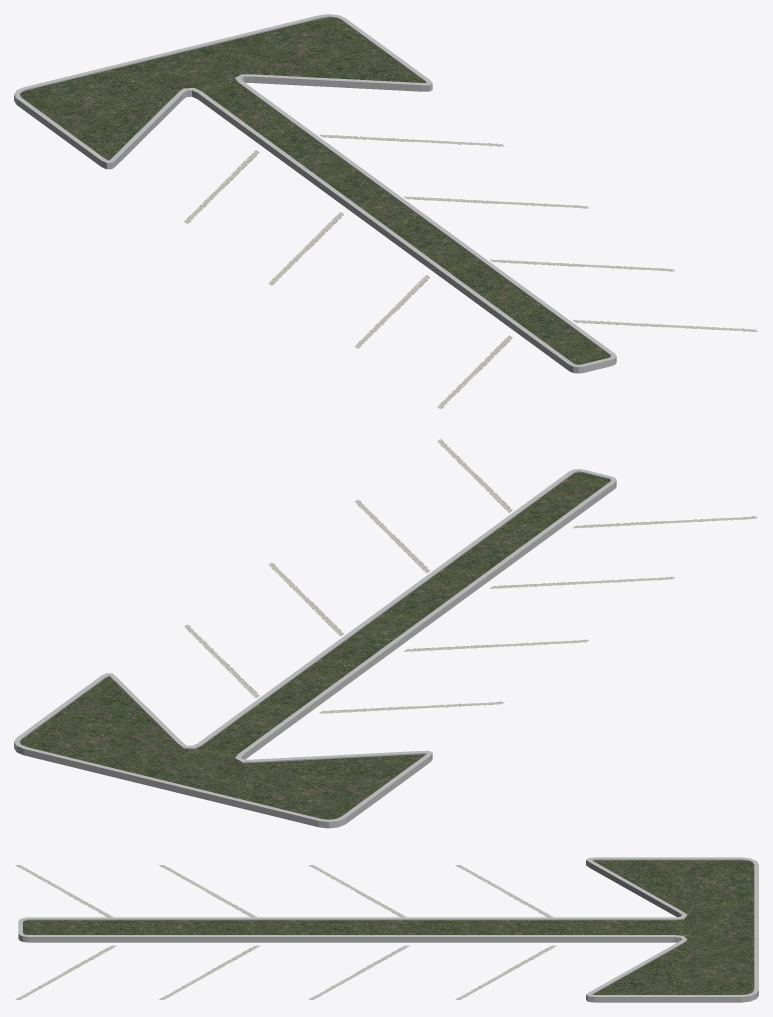
The model's file is Park-09.fbx.
The picture shows the model from 3 angles, top to bottom: view 1: azimuth 30°, elevation 25°; view 2: azimuth 150°, elevation 25°; view 3: azimuth 270°, elevation 25°; orthographic projection. The views are drawn at different scales.
Visible parts, largest first — view 1: Park-09; view 2: Park-09; view 3: Park-09.
Boxes of the visible parts, box(x1,y1,x2,y2) form: Park-09: box(14, 14, 757, 409); Park-09: box(14, 439, 757, 828); Park-09: box(15, 857, 758, 1002).
Size of what is drawn, in the model's own units: 10.65 by 0.2 by 24.03.
